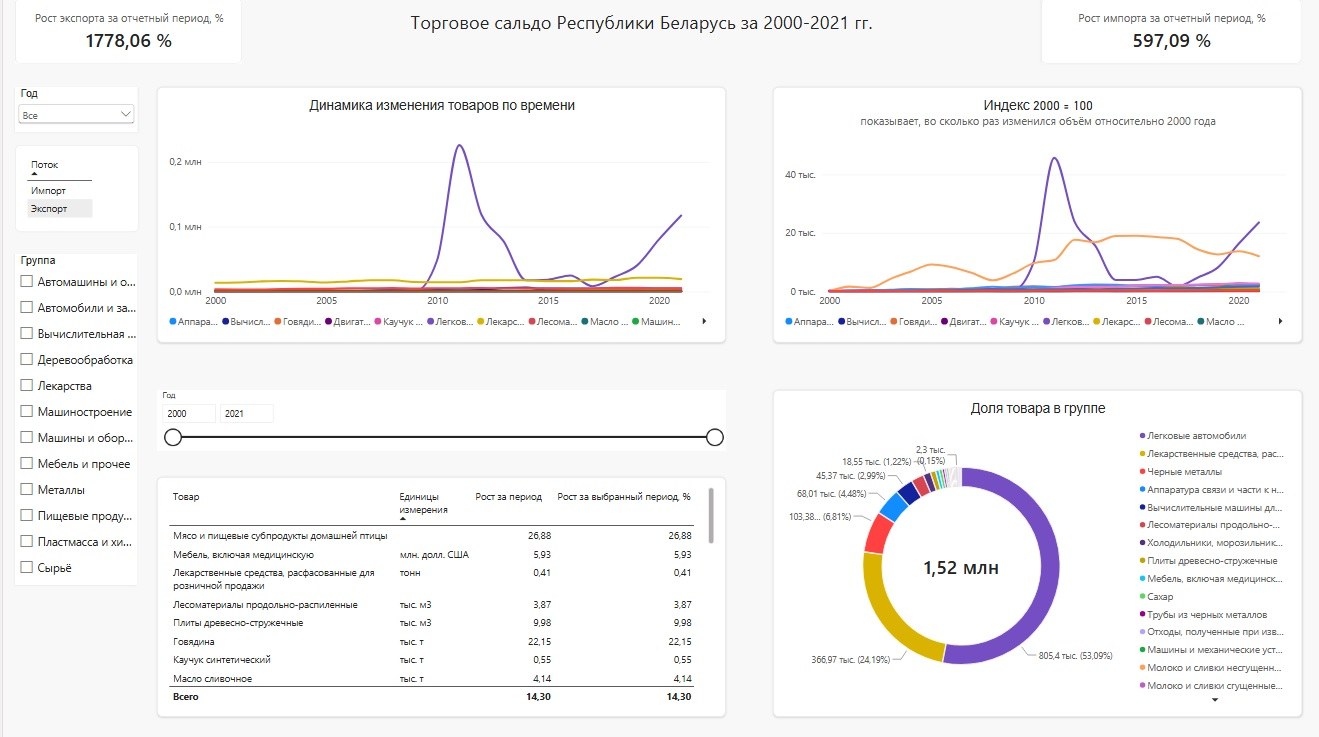

The page's visual inventory and layout, read from the dashboard file:
{"tool":"powerbi","page":{"name":"Страница 1","canvas":[1920,1080],"ordinal":0},"visuals":[{"type":"lineChart","title":"Динамика изменения товаров по времени","fields":{"Category":["Экспорт важн т.Год"],"Series":["Экспорт важн т.Товар"],"Y":["Sum(Экспорт важн т.Значение)"]},"box":[224.7,129.8,830.2,373.5],"z":0},{"type":"tableEx","fields":{"Values":["Экспорт важн т.Поток"]},"box":[17.5,214.5,180.9,126.9],"z":1},{"type":"slicer","fields":{"Values":["Экспорт важн т.Группа"]},"box":[17.5,373.5,178,482.9],"z":2},{"type":"lineChart","title":"Индекс 2000 = 100","fields":{"Category":["Экспорт важн т.Год"],"Series":["Экспорт важн т.Товар"],"Y":["Sum(Экспорт важн т.Индекс_2000)"]},"box":[1123.4,129.8,771.8,373.5],"z":3},{"type":"donutChart","title":"Доля товара в группе","fields":{"Category":["Экспорт важн т.Товар"],"Y":["Sum(Экспорт важн т.Значение)"]},"box":[1123.4,571.9,771.8,477.1],"z":9},{"type":"slicer","fields":{"Values":["Экспорт важн т.Год"]},"box":[17.5,129.8,179.5,65.7],"z":11},{"type":"textbox","box":[348.7,16,1165.7,39.4],"z":14},{"type":"tableEx","fields":{"Values":["Экспорт важн т.Товар","Экспорт важн т.Единицы измерения","Экспорт важн т.Рост за период, %","Экспорт важн т._Рост за выбранный период, %"]},"box":[224.7,698.8,830.2,350.2],"z":16},{"type":"cardVisual","fields":{"Data":["Экспорт важн т.Рост за период, %"]},"box":[17.5,0,331.2,96.3],"z":18},{"type":"cardVisual","fields":{"Data":["Экспорт важн т.Рост за период, %"]},"box":[1514.4,0,380.8,96.3],"z":19},{"type":"slicer","fields":{"Values":["Экспорт важн т.Год"]},"box":[224.7,571.9,830.2,87.5],"z":20}]}

Visuals, with their boxes in screenshot pixels (x1, y1, x2, y2), scaled from the page's 1920x1080 canvas onto the 1319x737 screenshot:
"Динамика изменения товаров по времени" lineChart: [x1=154, y1=89, x2=725, y2=343]
tableEx - Экспорт важн т.Поток: [x1=12, y1=146, x2=136, y2=233]
slicer - Экспорт важн т.Группа: [x1=12, y1=255, x2=134, y2=584]
"Индекс 2000 = 100" lineChart: [x1=772, y1=89, x2=1302, y2=343]
"Доля товара в группе" donutChart: [x1=772, y1=390, x2=1302, y2=716]
slicer - Экспорт важн т.Год: [x1=12, y1=89, x2=135, y2=133]
textbox: [x1=240, y1=11, x2=1040, y2=38]
tableEx - Экспорт важн т.Товар x Экспорт важн т.Единицы измерения: [x1=154, y1=477, x2=725, y2=716]
cardVisual - Экспорт важн т.Рост за период, %: [x1=12, y1=0, x2=240, y2=66]
cardVisual - Экспорт важн т.Рост за период, %: [x1=1040, y1=0, x2=1302, y2=66]
slicer - Экспорт важн т.Год: [x1=154, y1=390, x2=725, y2=450]
